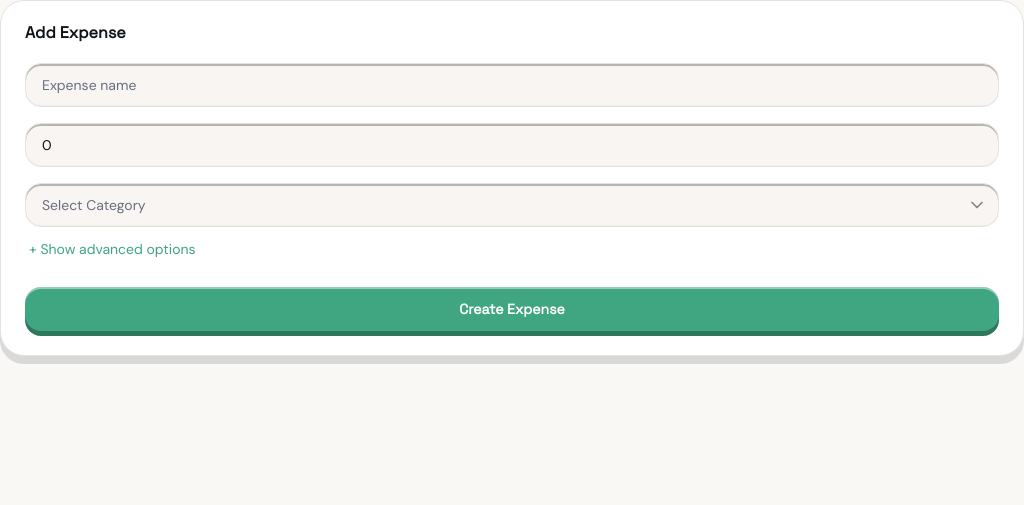
Scenario: AddExpenseForm › should reveal date and note fields after clicking "+ Show advanced options"
Click the button "+ Show advanced options" at (112, 249), box [25,227,200,271]
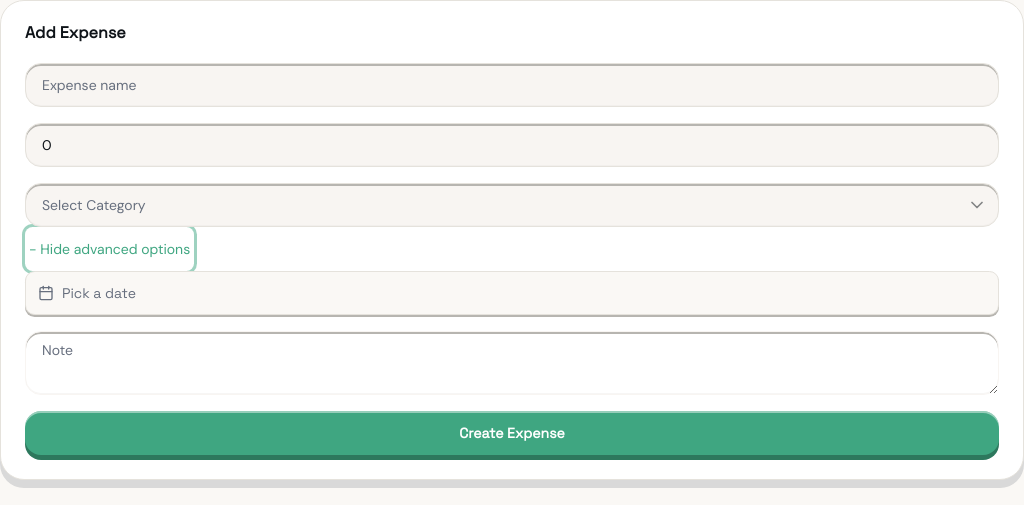
Check: the text "Pick a date" is shown, box [62,283,136,303]
Check: the text box with placeholder "Note" is shown, box [25,331,999,395]
